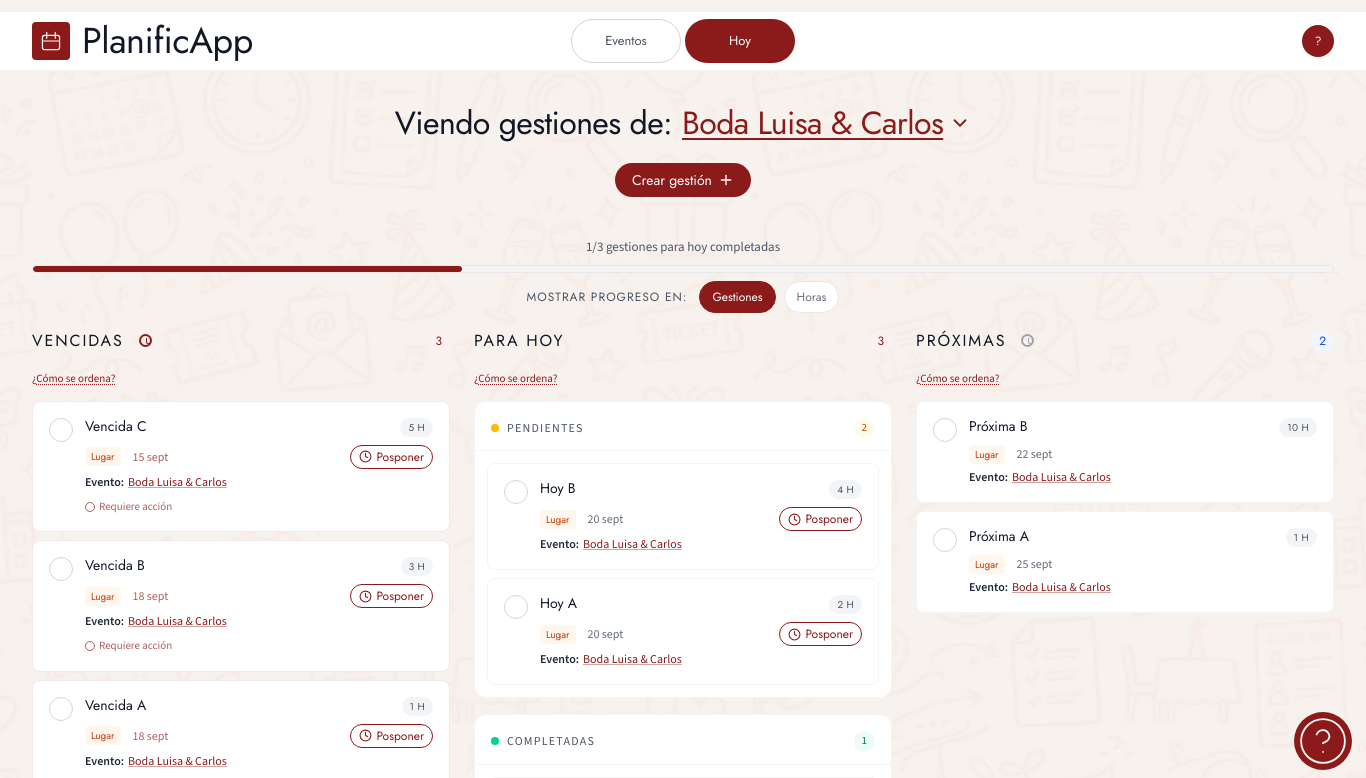
Scenario: HomePage › la barra de progreso del día usa progreso_dia de /api/hoy/, y el toggle cambia a horas sin volver a pedir datos
The image size is (1366, 778).
Expected: the text "Vencida A" is shown, [85,696,146,714]
Expected: the text "1/3 gestiones para hoy completadas" is shown, [586,238,780,255]
Click the button "Horas" at [812, 296], box [784,280,840,312]
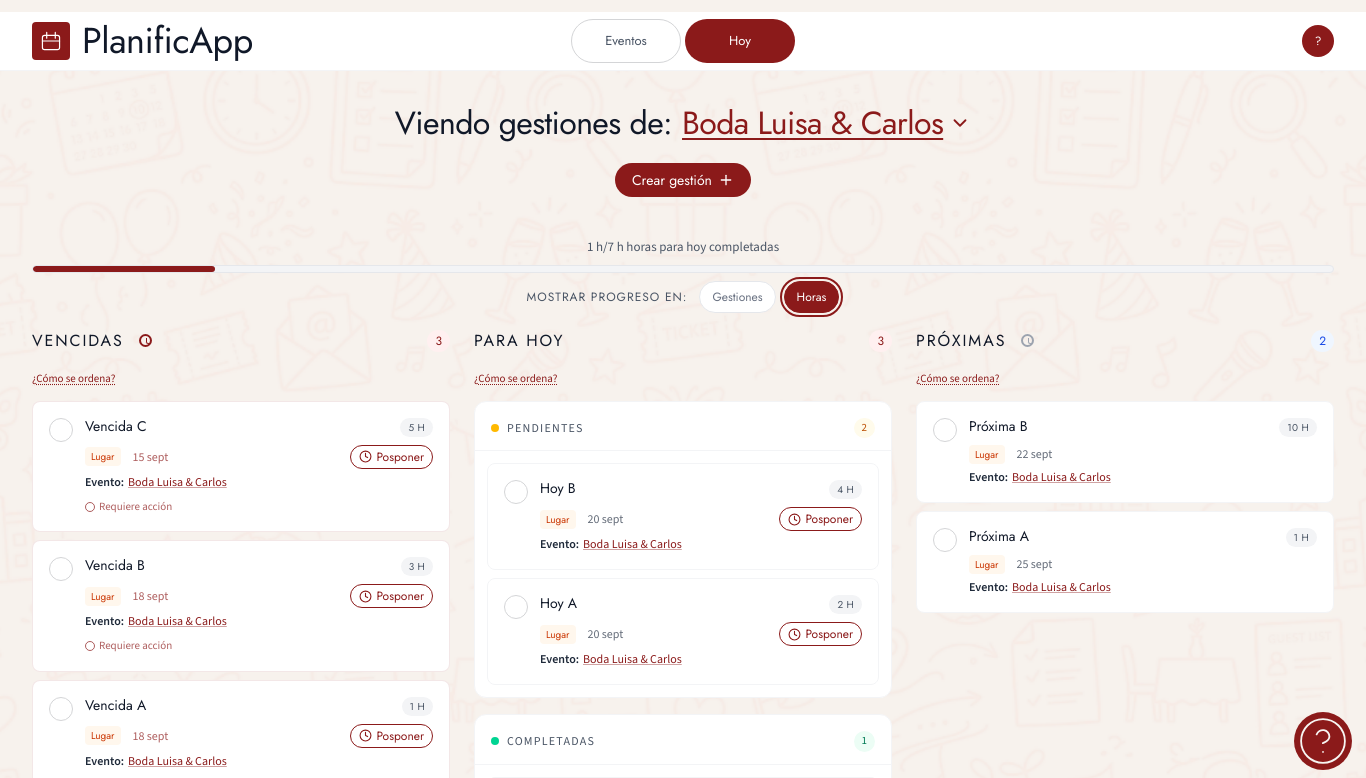
Expected: the text "1 h/7 h horas para hoy completadas" is shown, [587,238,779,255]
